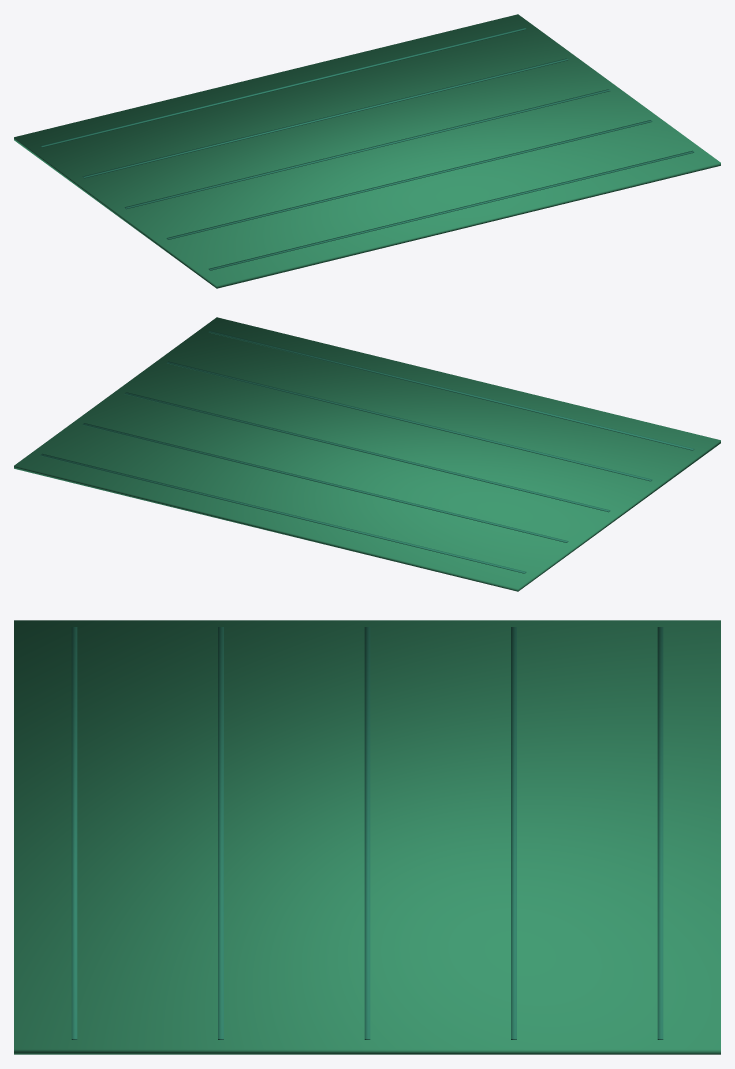
The model's file is 09_L94_TopGreenSoldermask.glb.
3 renders of one model, top to bottom at view 1: azimuth 30°, elevation 25°; view 2: azimuth 150°, elevation 25°; view 3: azimuth 270°, elevation 25°, orthographic. The views are drawn at different scales.
Visible parts, largest first — view 1: L94_TopGreenSoldermask; view 2: L94_TopGreenSoldermask; view 3: L94_TopGreenSoldermask.
Boxes of the visible parts, box(x1,y1,x2,y2) form: L94_TopGreenSoldermask: box(14, 14, 720, 288); L94_TopGreenSoldermask: box(14, 317, 720, 591); L94_TopGreenSoldermask: box(14, 620, 720, 1054).
Size of the model in its own units: 1.38 by 0.011 by 0.965.
